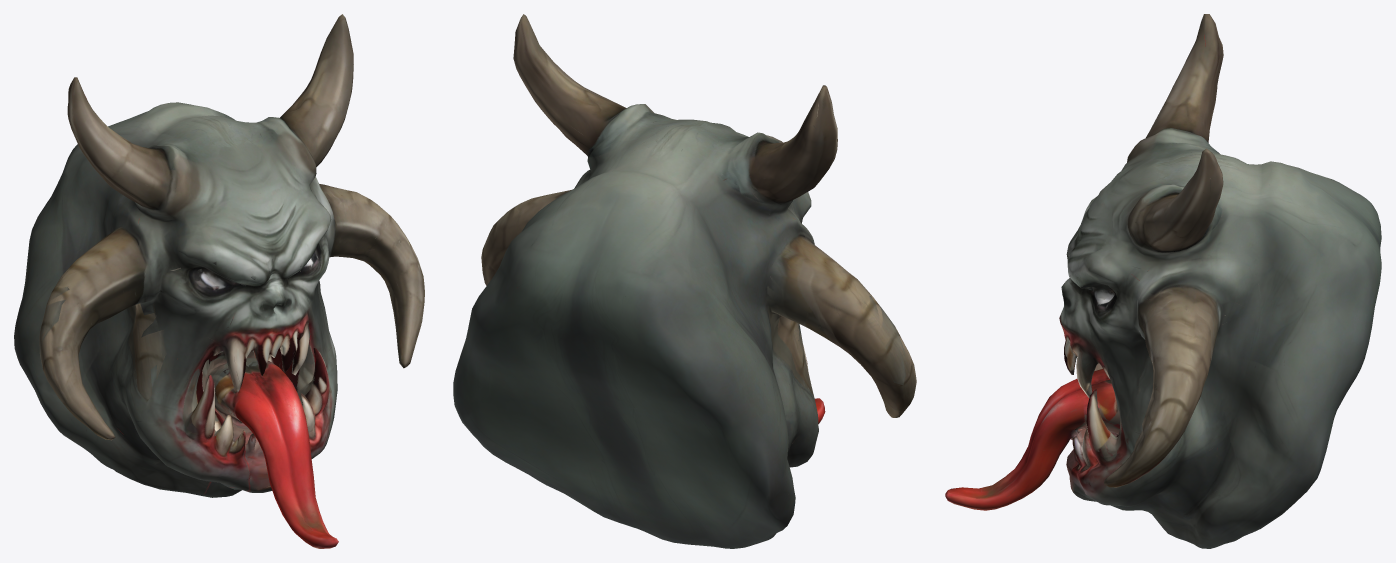
The model's file is Nachzehrer.fbx.
3 views of the same model, side by side, from view 1: azimuth 30°, elevation 25°; view 2: azimuth 150°, elevation 25°; view 3: azimuth 270°, elevation 25° (orthographic). The views are drawn at different scales.
Parts seen in each view (by area): view 1: Mesh_0; view 2: Mesh_0; view 3: Mesh_0.
Boxes of the visible parts, x1,y1,x2,y2 form: Mesh_0: (14,14,424,548); Mesh_0: (453,14,916,548); Mesh_0: (945,14,1381,548).
Size of the model in its own units: 179 by 201 by 175.
1 material, 1 textured.
